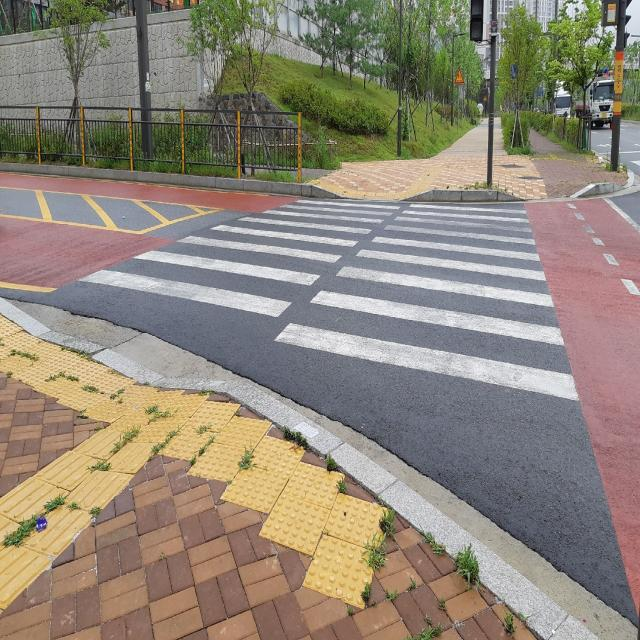횡단보도: (75, 190, 583, 406)
